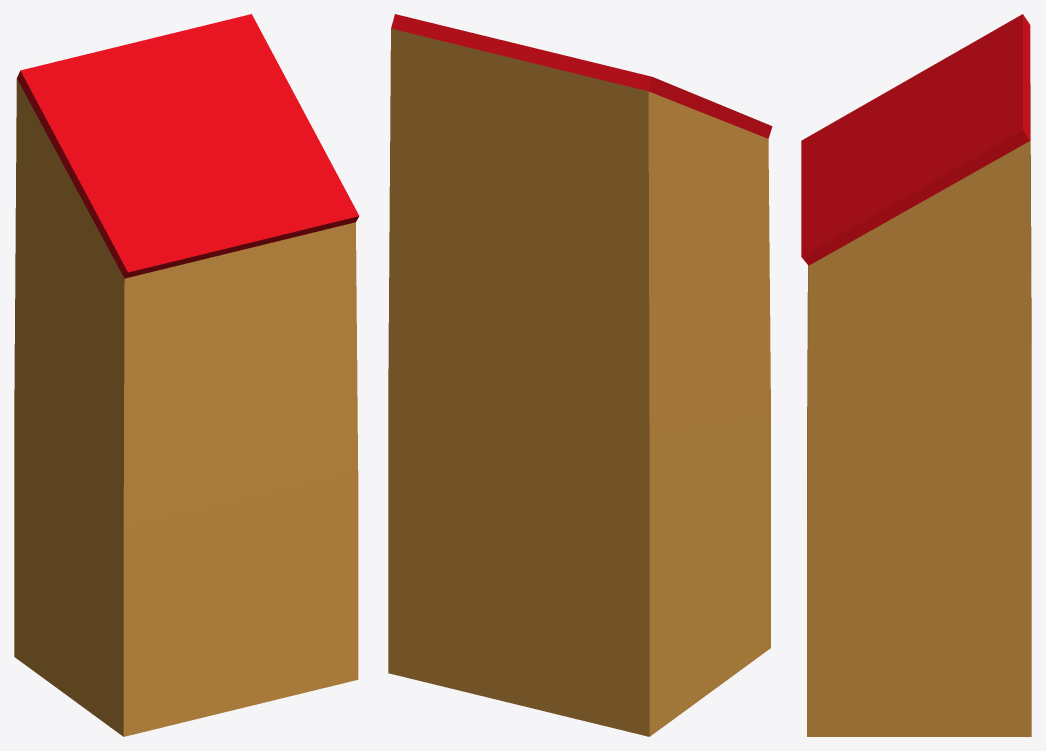
File: SM_casa2l.fbx
The picture shows the model from 3 angles, left to right: view 1: azimuth 30°, elevation 25°; view 2: azimuth 150°, elevation 25°; view 3: azimuth 270°, elevation 25°; orthographic projection. The views are drawn at different scales.
Parts seen in each view (by area): view 1: SM_casa2; view 2: SM_casa2; view 3: SM_casa2.
Boxes of the visible parts, left/top/right/bottom form: SM_casa2: left=14, top=14, right=359, bottom=736; SM_casa2: left=388, top=14, right=772, bottom=736; SM_casa2: left=801, top=14, right=1031, bottom=736.
Size of the model in its own units: 569 by 1366 by 471.
